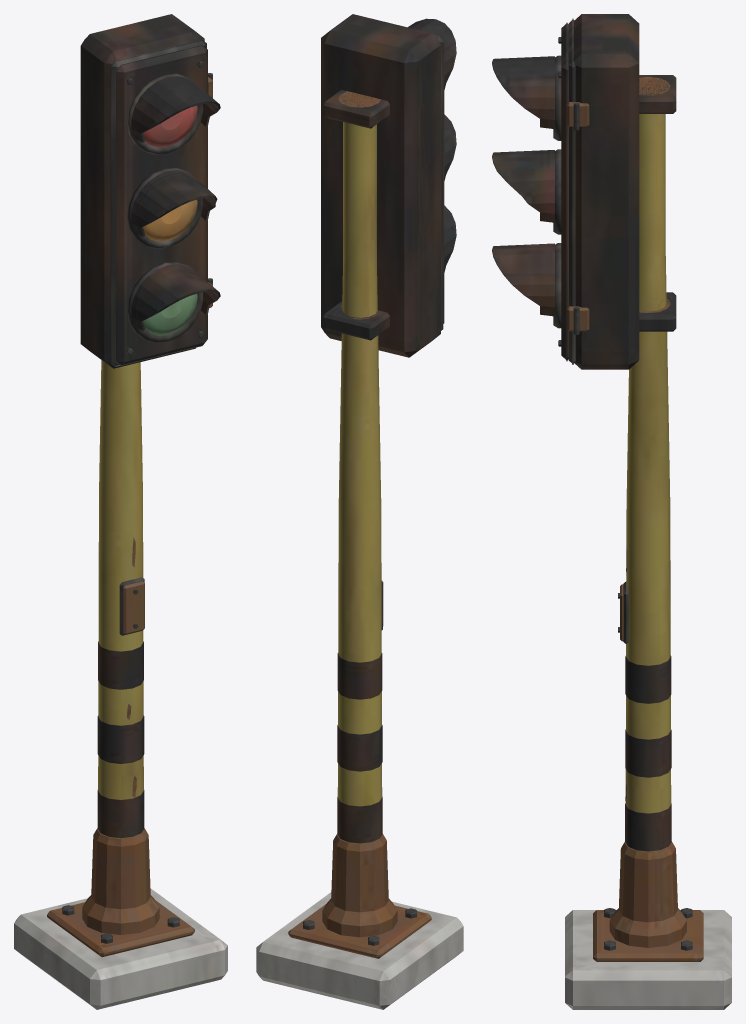
File: RE12_dark_traffic_light.glb
3 views of the same model, side by side, from view 1: azimuth 30°, elevation 25°; view 2: azimuth 150°, elevation 25°; view 3: azimuth 270°, elevation 25° (orthographic). The views are drawn at different scales.
Visible parts, largest first — view 1: Concrete footing; view 2: Concrete footing; view 3: Concrete footing.
Part boxes in pixels (<box>): Concrete footing: <box>14,14,227,1009</box>; Concrete footing: <box>256,14,463,1009</box>; Concrete footing: <box>492,14,731,1009</box>.
Size of the model in its own units: 0.76 by 5 by 1.15.
Materials: 9 (9 with a texture image).
